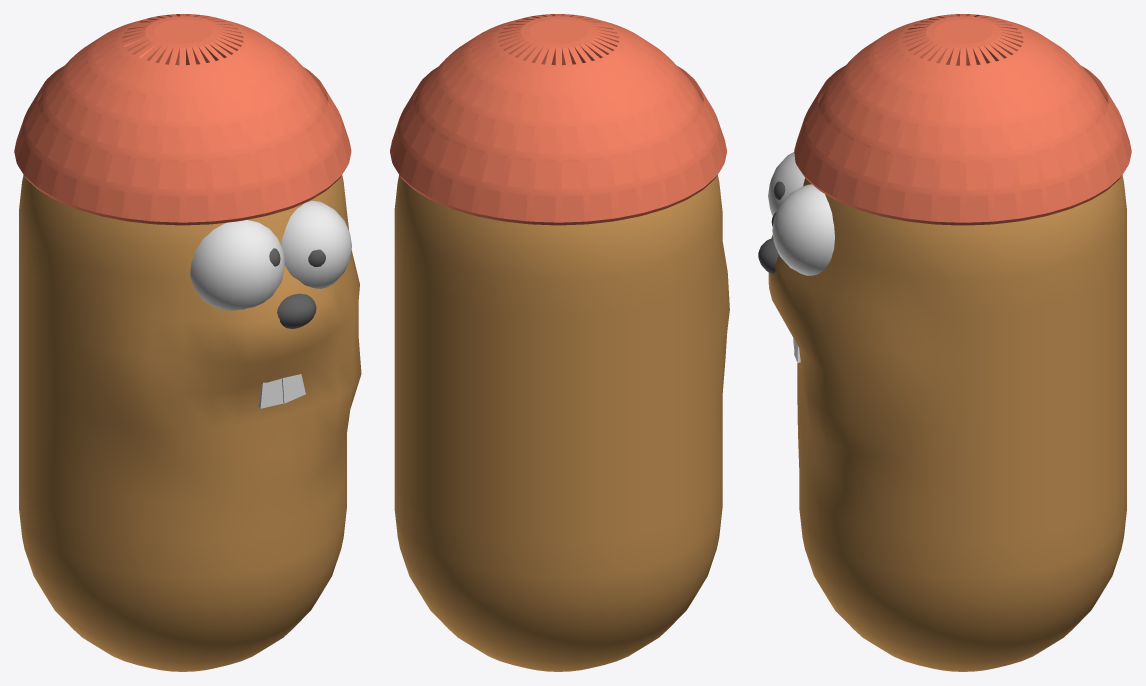
Rendered from single_mole 1.fbx.
3 views of the same model, side by side, from view 1: azimuth 30°, elevation 25°; view 2: azimuth 150°, elevation 25°; view 3: azimuth 270°, elevation 25° (orthographic).
Parts seen in each view (by area): view 1: Null, Null.001, Null.003, Null.002; view 2: Null, Null.001; view 3: Null, Null.001, Null.003, Null.002.
Part boxes in pixels (box(x1,y1,x2,y2)): Null: box(19, 175, 361, 671); Null.001: box(14, 14, 351, 225); Null.003: box(190, 200, 351, 408); Null.002: box(269, 248, 325, 328); Null: box(394, 175, 729, 671); Null.001: box(390, 14, 726, 225); Null: box(768, 175, 1126, 671); Null.001: box(794, 14, 1131, 225); Null.003: box(768, 152, 834, 362); Null.002: box(758, 181, 785, 274).
Bounding box in the file's own units: 103 × 210 × 114.
